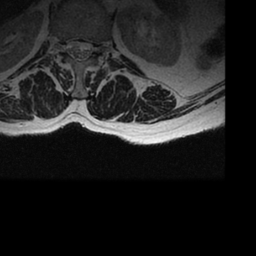CCS_normal: (75, 30, 84, 69)
LFS_normal: (93, 35, 102, 62)
LLS_normal: (84, 31, 93, 65)
RFS_normal: (57, 33, 66, 59)
RLS_normal: (66, 31, 76, 62)
